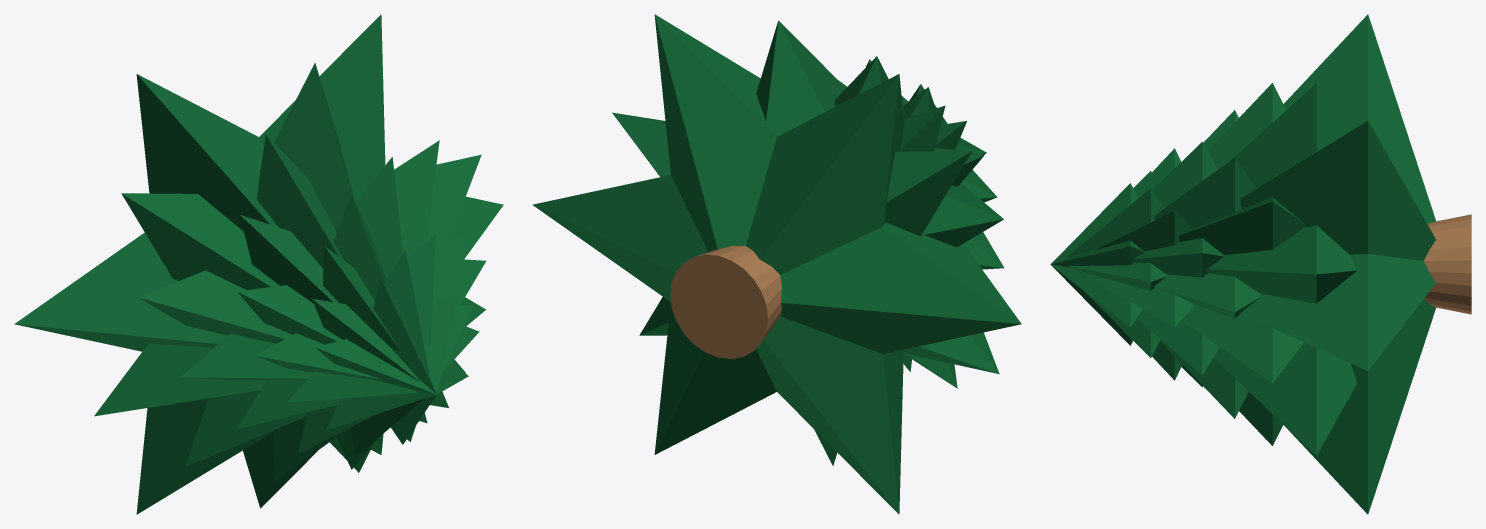
File: tinker.obj
The picture shows the model from 3 angles, left to right: view 1: azimuth 30°, elevation 25°; view 2: azimuth 150°, elevation 25°; view 3: azimuth 270°, elevation 25°; orthographic projection. The views are drawn at different scales.
Visible parts, largest first — view 1: group_0_1206582; view 2: group_0_1206582, group_0_11107152; view 3: group_0_1206582, group_0_11107152.
Part boxes in pixels (bbox=[...]): group_0_1206582: bbox=[14, 14, 503, 514]; group_0_1206582: bbox=[532, 14, 1021, 514]; group_0_11107152: bbox=[670, 246, 781, 358]; group_0_1206582: bbox=[1050, 14, 1435, 514]; group_0_11107152: bbox=[1424, 214, 1471, 314].
Size of the model in its own units: 48 by 41.32 by 40.
